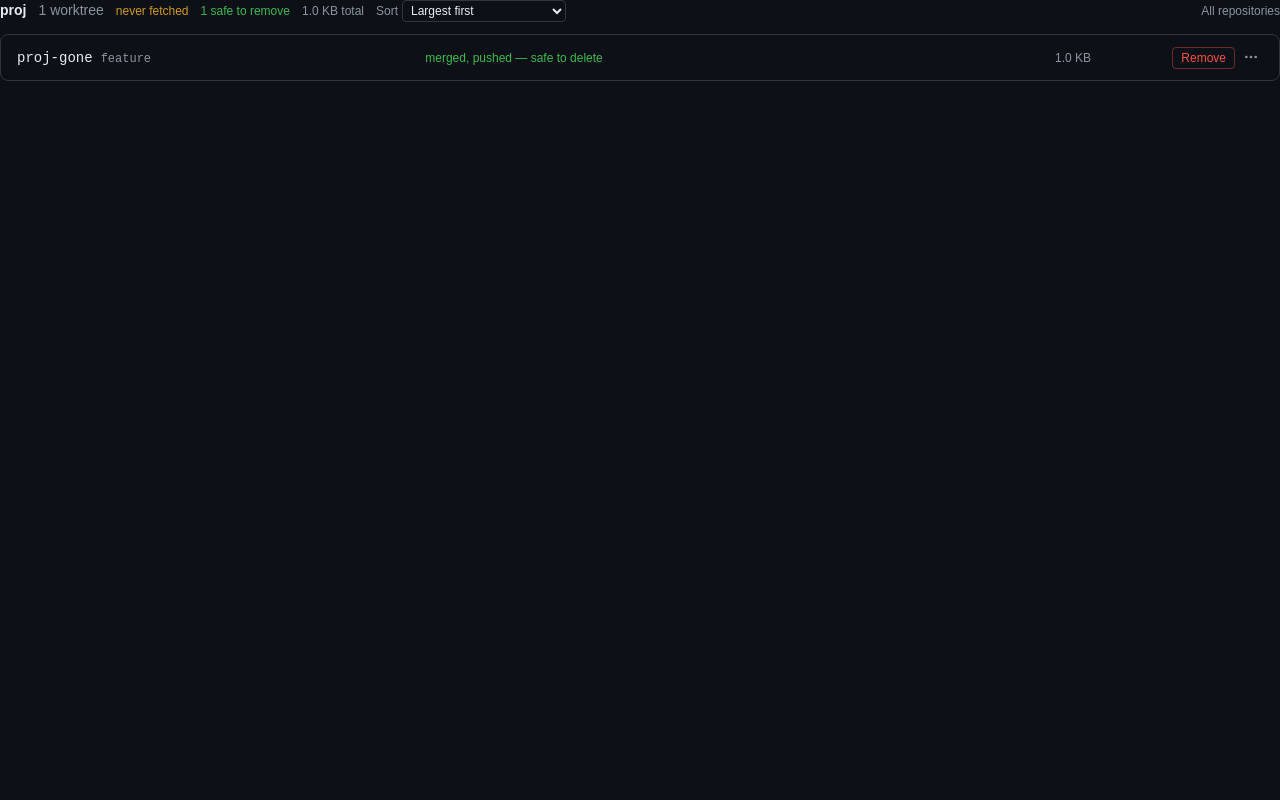
Test case: WorktreesPage › confirms in a dialog naming the path
Click the button "Remove". click: (1204, 58)
box: [1172, 46, 1235, 68]
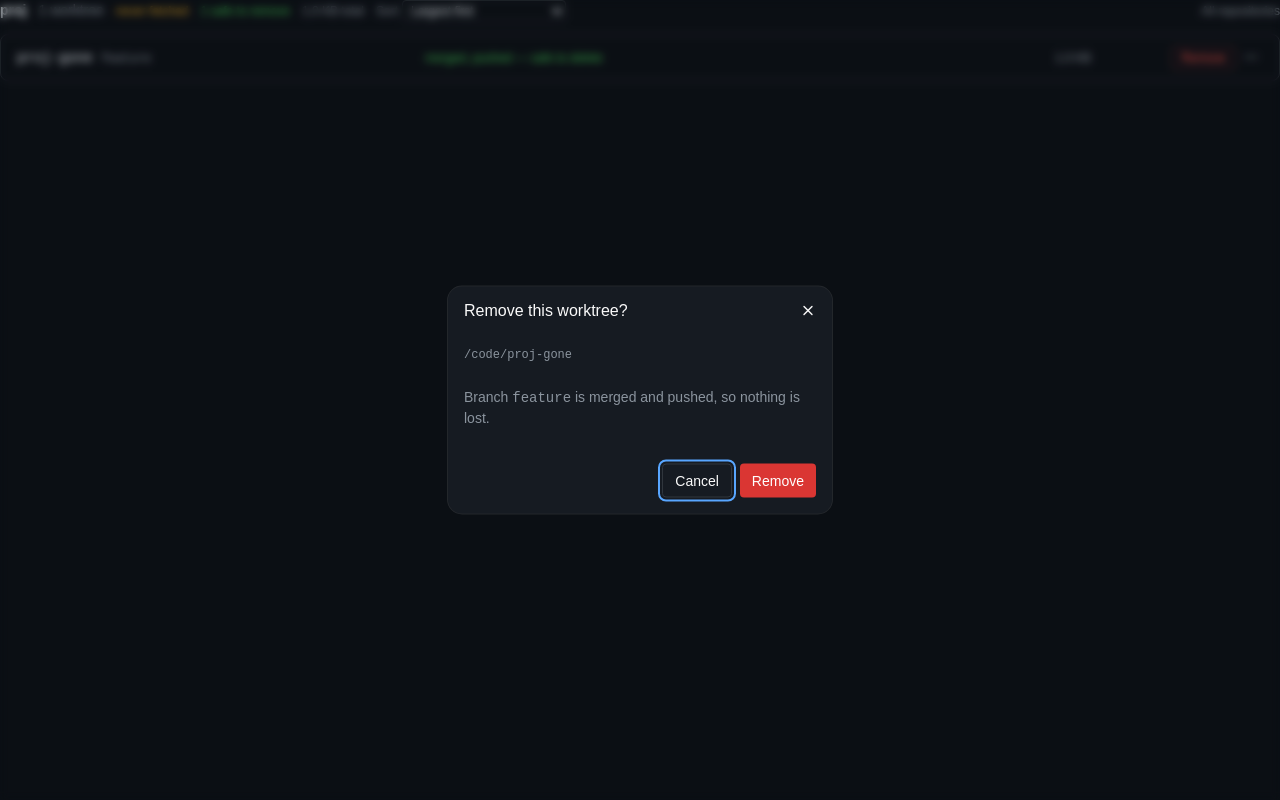
Now the dialog is shown, box [448, 286, 832, 514]
Now the text "/code/proj-gone" is shown, box [464, 348, 572, 362]
